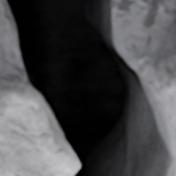broken_brick: (0, 77, 77, 175), (136, 54, 175, 156), (172, 163, 175, 175)
crack: (2, 0, 175, 175)
